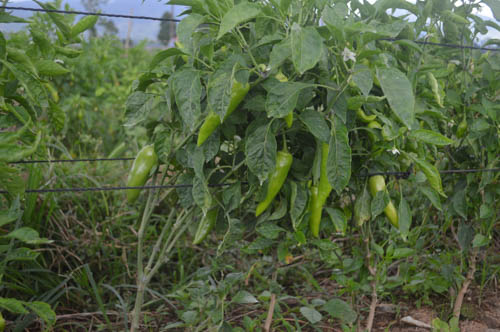ChiliPepper: (197, 80, 247, 145), (257, 154, 289, 219), (366, 176, 401, 222), (314, 144, 340, 200), (127, 145, 152, 201), (305, 187, 324, 237)
